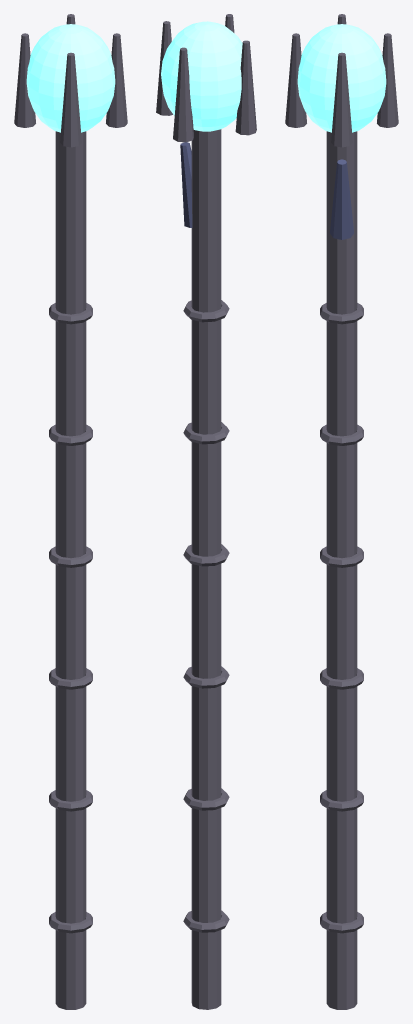
Rendered from xx_sage_staff_3d.glb.
3 views of the same model, side by side, from view 1: azimuth 90°, elevation 25°; view 2: azimuth 150°, elevation 25°; view 3: azimuth 270°, elevation 25° (orthographic).
Visible parts, largest first — view 1: staff_shaft, staff_gem, prong_2, prong_1, prong_3, twist_1, twist_2, twist_0, twist_3, twist_5, twist_4; view 2: staff_shaft, staff_gem, prong_1, prong_2, tassel, prong_0, twist_3, twist_2, twist_4, twist_1, twist_0, twist_5; view 3: staff_shaft, staff_gem, prong_0, tassel, prong_1, prong_3, twist_1, twist_2, twist_0, twist_3, twist_5, twist_4.
Boxes of the visible parts, x1,y1,x2,y2 form: staff_shaft: (55,131,86,1009); staff_gem: (26,24,115,132); prong_2: (60,52,81,147); prong_1: (14,33,35,127); prong_3: (106,33,127,127); twist_1: (49,790,92,811); twist_2: (49,668,92,689); twist_0: (49,912,92,933); twist_3: (49,546,92,567); twist_5: (49,303,92,324); twist_4: (49,424,92,445); staff_shaft: (191,129,221,1009); staff_gem: (161,21,242,131); prong_1: (173,47,193,142); prong_2: (235,40,256,135); tassel: (180,142,192,227); prong_0: (156,21,172,115); twist_3: (183,544,229,566); twist_2: (183,666,229,688); twist_4: (183,422,229,444); twist_1: (183,788,229,810); twist_0: (183,910,229,932); twist_5: (183,300,229,322); staff_shaft: (326,131,357,1009); staff_gem: (297,24,386,132); prong_0: (331,52,352,147); tassel: (330,159,353,239); prong_1: (377,33,398,127); prong_3: (285,33,306,127); twist_1: (320,790,363,811); twist_2: (320,668,363,689); twist_0: (320,912,363,933); twist_3: (320,546,363,567); twist_5: (320,303,363,324); twist_4: (320,424,363,445).
Bounding box in the file's own units: 0.186 × 1.76 × 0.186.
